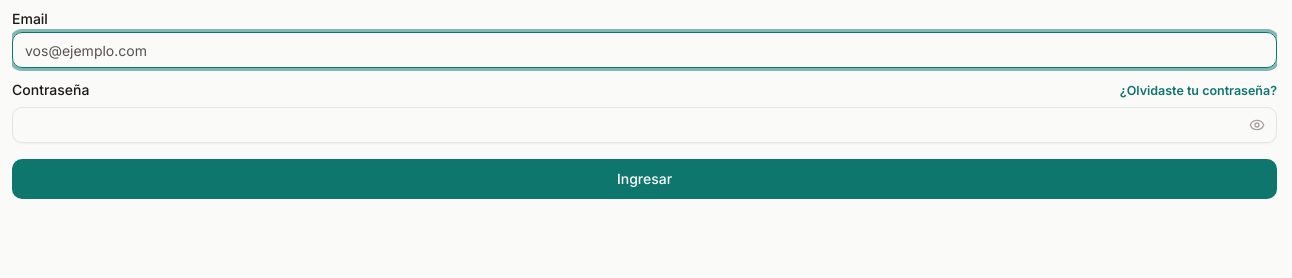
LoginForm › shows a generic alert on invalid credentials
The image size is (1292, 278).
Type "sosa@example.com" into the field labelled "Email" at (644, 50), box [12, 32, 1277, 68]
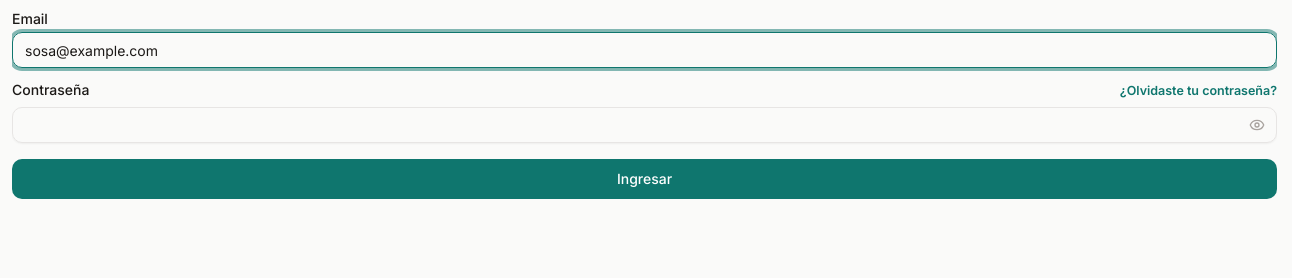
Type "secret123" into the password field labelled "Contraseña" at (644, 125), box [12, 107, 1277, 143]
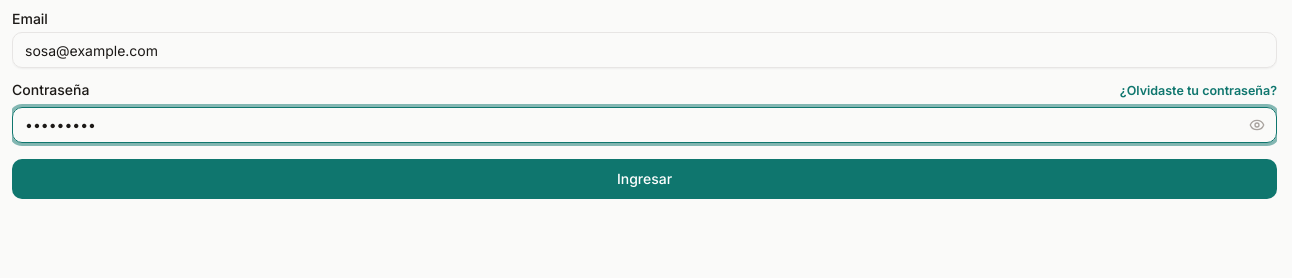
Click the button "Ingresar" at (644, 179), box [12, 159, 1277, 199]
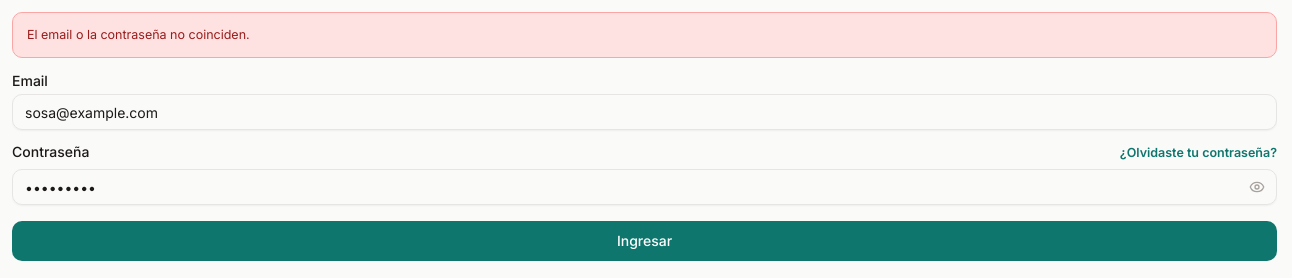
Result: the text "El email o la contraseña no coinciden." is shown at [27, 27, 250, 42]
